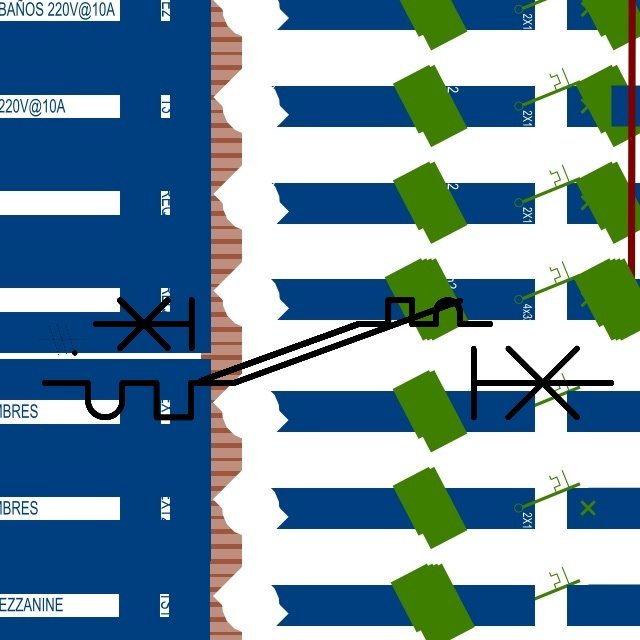interruptor_termomagnetico: (30, 286, 625, 432), (85, 290, 499, 391)
